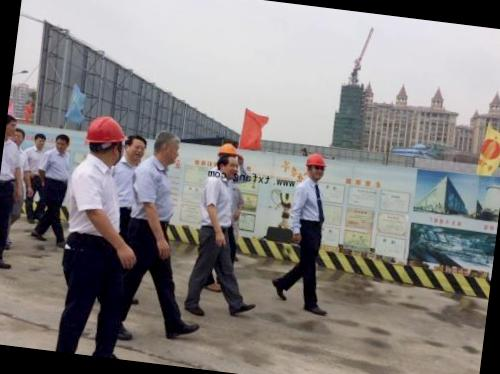no_helmet: (150, 128, 183, 168), (213, 154, 244, 184), (122, 133, 149, 167), (7, 126, 28, 154), (52, 130, 72, 155), (5, 112, 19, 141), (33, 130, 48, 152)
